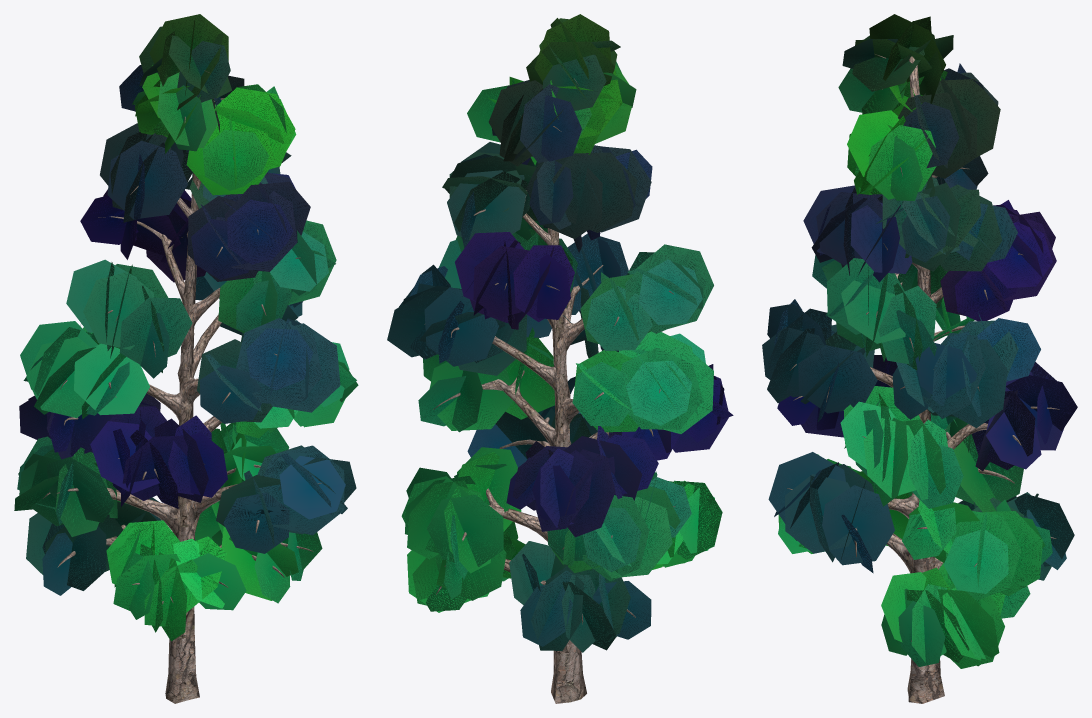
File: Tree1.fbx
3 renders of one model, left to right at view 1: azimuth 30°, elevation 25°; view 2: azimuth 150°, elevation 25°; view 3: azimuth 270°, elevation 25°, orthographic.
Parts seen in each view (by area): view 1: Tree_1, Tree_0; view 2: Tree_1, Tree_0; view 3: Tree_1, Tree_0.
Part boxes in pixels (bbox=[...]): Tree_1: bbox=[14, 14, 358, 641]; Tree_0: bbox=[43, 70, 321, 703]; Tree_1: bbox=[387, 14, 733, 652]; Tree_0: bbox=[424, 78, 675, 703]; Tree_1: bbox=[762, 14, 1077, 668]; Tree_0: bbox=[787, 54, 1059, 703].
Bounding box in the file's own units: 235 × 503 × 211.
Materials: 1 (1 with a texture image).
